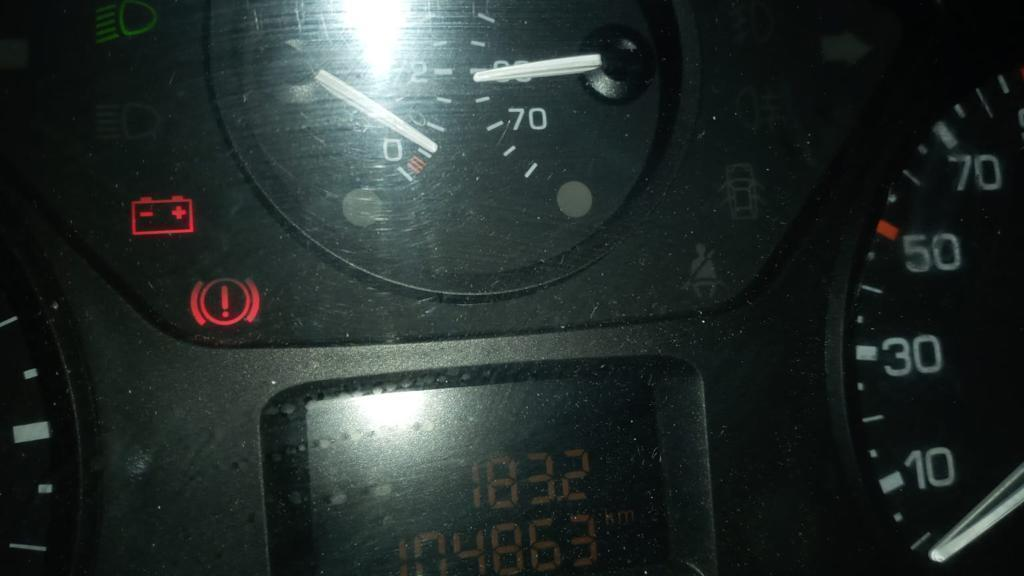0: (413, 530, 448, 576)
1: (468, 459, 482, 510), (397, 537, 409, 576)
2: (560, 448, 590, 500)
3: (523, 453, 557, 505), (567, 513, 599, 567)
4: (451, 528, 486, 576)
6: (528, 517, 562, 571)
8: (489, 522, 524, 576), (487, 453, 518, 510)
X: (616, 508, 635, 524), (602, 508, 614, 527)
odometer: (301, 370, 677, 576)
